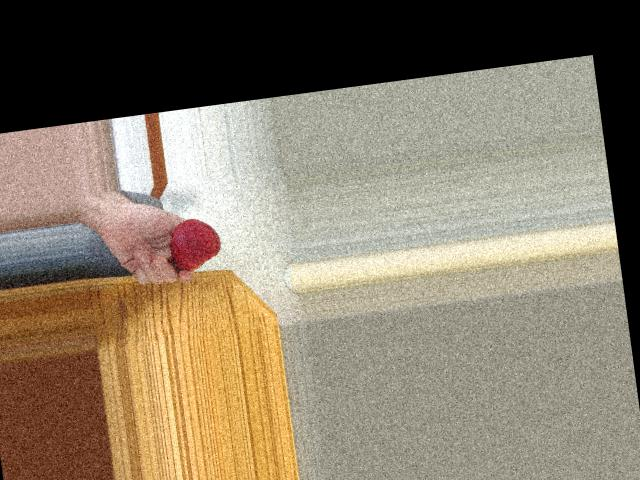apple: (166, 215, 226, 271)
